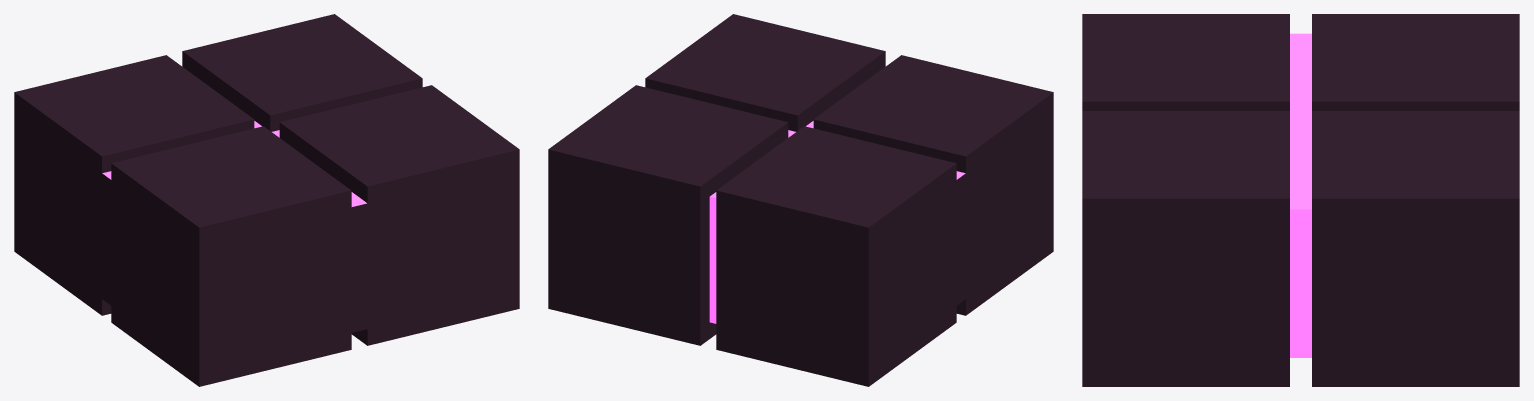
Rendered from Semi-block_4_hook.fbx.
3 views of the same model, side by side, from view 1: azimuth 30°, elevation 25°; view 2: azimuth 150°, elevation 25°; view 3: azimuth 270°, elevation 25° (orthographic). The views are drawn at different scales.
Parts seen in each view (by area): view 1: Semi-block_4_hook; view 2: Semi-block_4_hook; view 3: Semi-block_4_hook.
Boxes of the visible parts, box(x1,y1,x2,y2) form: Semi-block_4_hook: box(14, 14, 519, 386); Semi-block_4_hook: box(548, 14, 1053, 386); Semi-block_4_hook: box(1082, 14, 1519, 386).
Bounding box in the file's own units: 1 × 0.475 × 1.
